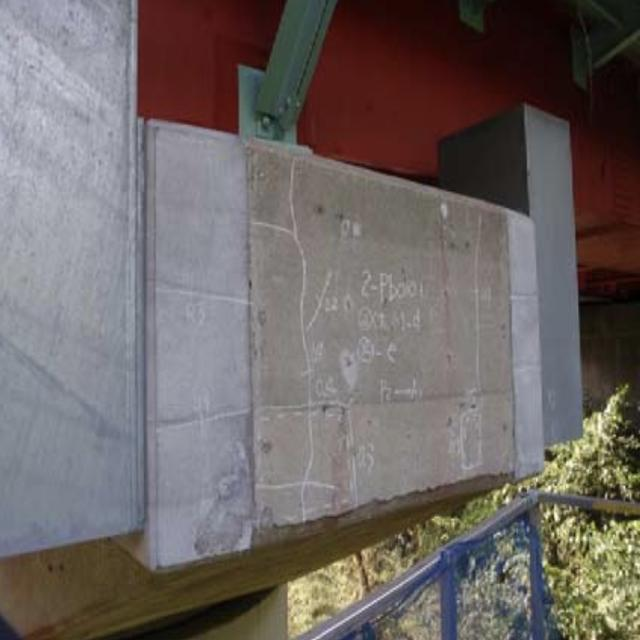crack: (230, 169, 361, 540)
